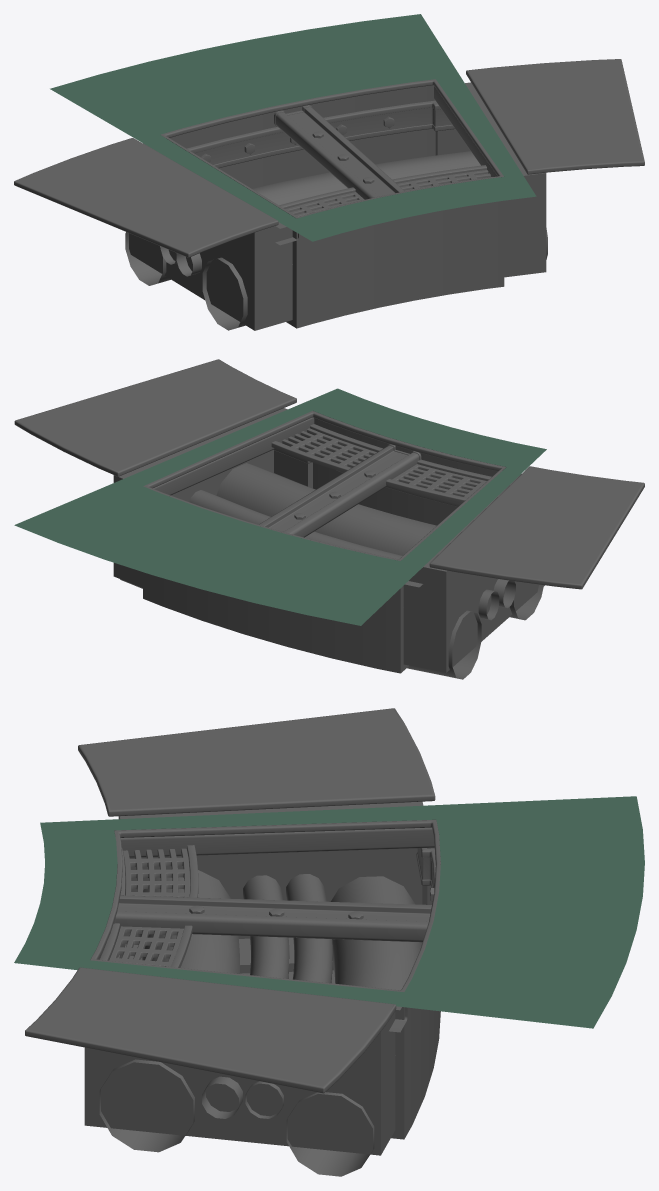
Rendered from Hole1stCorridor.fbx.
The picture shows the model from 3 angles, top to bottom: view 1: azimuth 30°, elevation 25°; view 2: azimuth 150°, elevation 25°; view 3: azimuth 270°, elevation 25°; orthographic projection. The views are drawn at different scales.
Visible parts, largest first — view 1: Hole, mirrored_x_2, duplicated_07, duplicated_02, duplicated_01, Pipe03, Rim, separated_01_1, Pipe01, mirrored_x_1, Bolts, Pipe02; view 2: Hole, duplicated_07, mirrored_x_2, Pipe01, separated_01_1, duplicated_01, Rim, Pipe02, mirrored_x_1, Pipe03; view 3: Hole, duplicated_07, mirrored_x_2, duplicated_01, Pipe03, mirrored_x_1, separated_01_1, Pipe02, Rim, Pipe01, duplicated_02.
Boxes of the visible parts, left/top/right/bottom form: Hole: left=50, top=14, right=546, bottom=330; mirrored_x_2: left=14, top=138, right=278, bottom=257; duplicated_07: left=466, top=59, right=644, bottom=174; duplicated_02: left=187, top=100, right=454, bottom=264; duplicated_01: left=276, top=107, right=404, bottom=199; Pipe03: left=125, top=151, right=480, bottom=285; Rim: left=161, top=79, right=503, bottom=218; separated_01_1: left=279, top=165, right=491, bottom=234; Pipe01: left=202, top=228, right=547, bottom=330; mirrored_x_1: left=143, top=86, right=497, bottom=245; Bolts: left=201, top=116, right=394, bottom=183; Pipe02: left=160, top=246, right=201, bottom=276; Hole: left=14, top=388, right=546, bottom=673; duplicated_07: left=14, top=359, right=296, bottom=476; mirrored_x_2: left=429, top=466, right=644, bottom=589; Pipe01: left=216, top=463, right=543, bottom=620; separated_01_1: left=271, top=424, right=491, bottom=503; duplicated_01: left=259, top=445, right=419, bottom=537; Rim: left=143, top=411, right=505, bottom=560; Pipe02: left=189, top=490, right=515, bottom=620; mirrored_x_1: left=153, top=417, right=520, bottom=587; Pipe03: left=120, top=579, right=481, bottom=679; Hole: left=14, top=796, right=644, bottom=1155; duplicated_07: left=25, top=967, right=396, bottom=1093; mirrored_x_2: left=78, top=708, right=435, bottom=816; duplicated_01: left=115, top=895, right=431, bottom=942; Pipe03: left=286, top=876, right=422, bottom=1176; mirrored_x_1: left=120, top=827, right=434, bottom=1032; separated_01_1: left=99, top=845, right=198, bottom=967; Pipe02: left=202, top=874, right=332, bottom=1118; Rim: left=90, top=820, right=440, bottom=991; Pipe01: left=99, top=870, right=239, bottom=1152; duplicated_02: left=118, top=848, right=435, bottom=1055.
Bounding box in the file's own units: 1456 × 300 × 1021.
